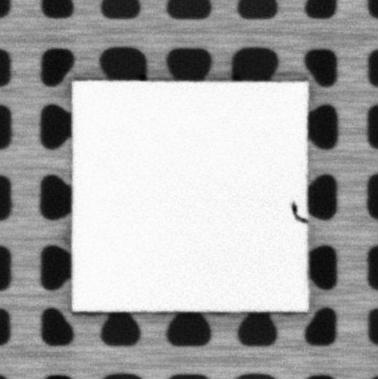DIE_INK: (290, 201, 305, 223)
